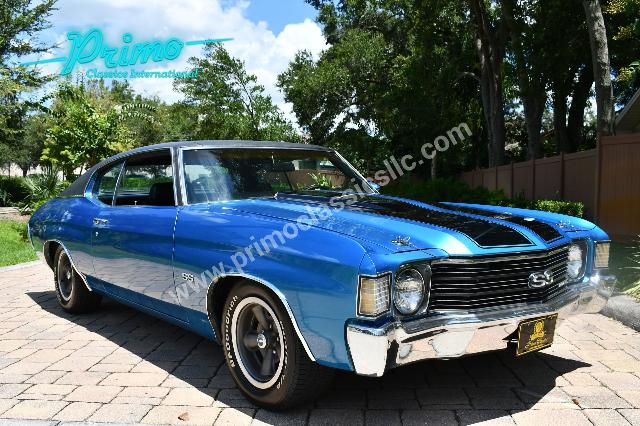chevelle-1972: (29, 141, 616, 410)
